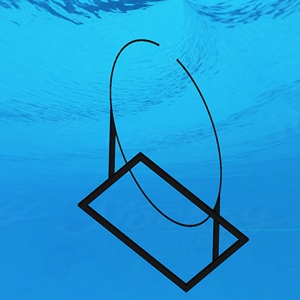circle: (78, 39, 252, 296)
